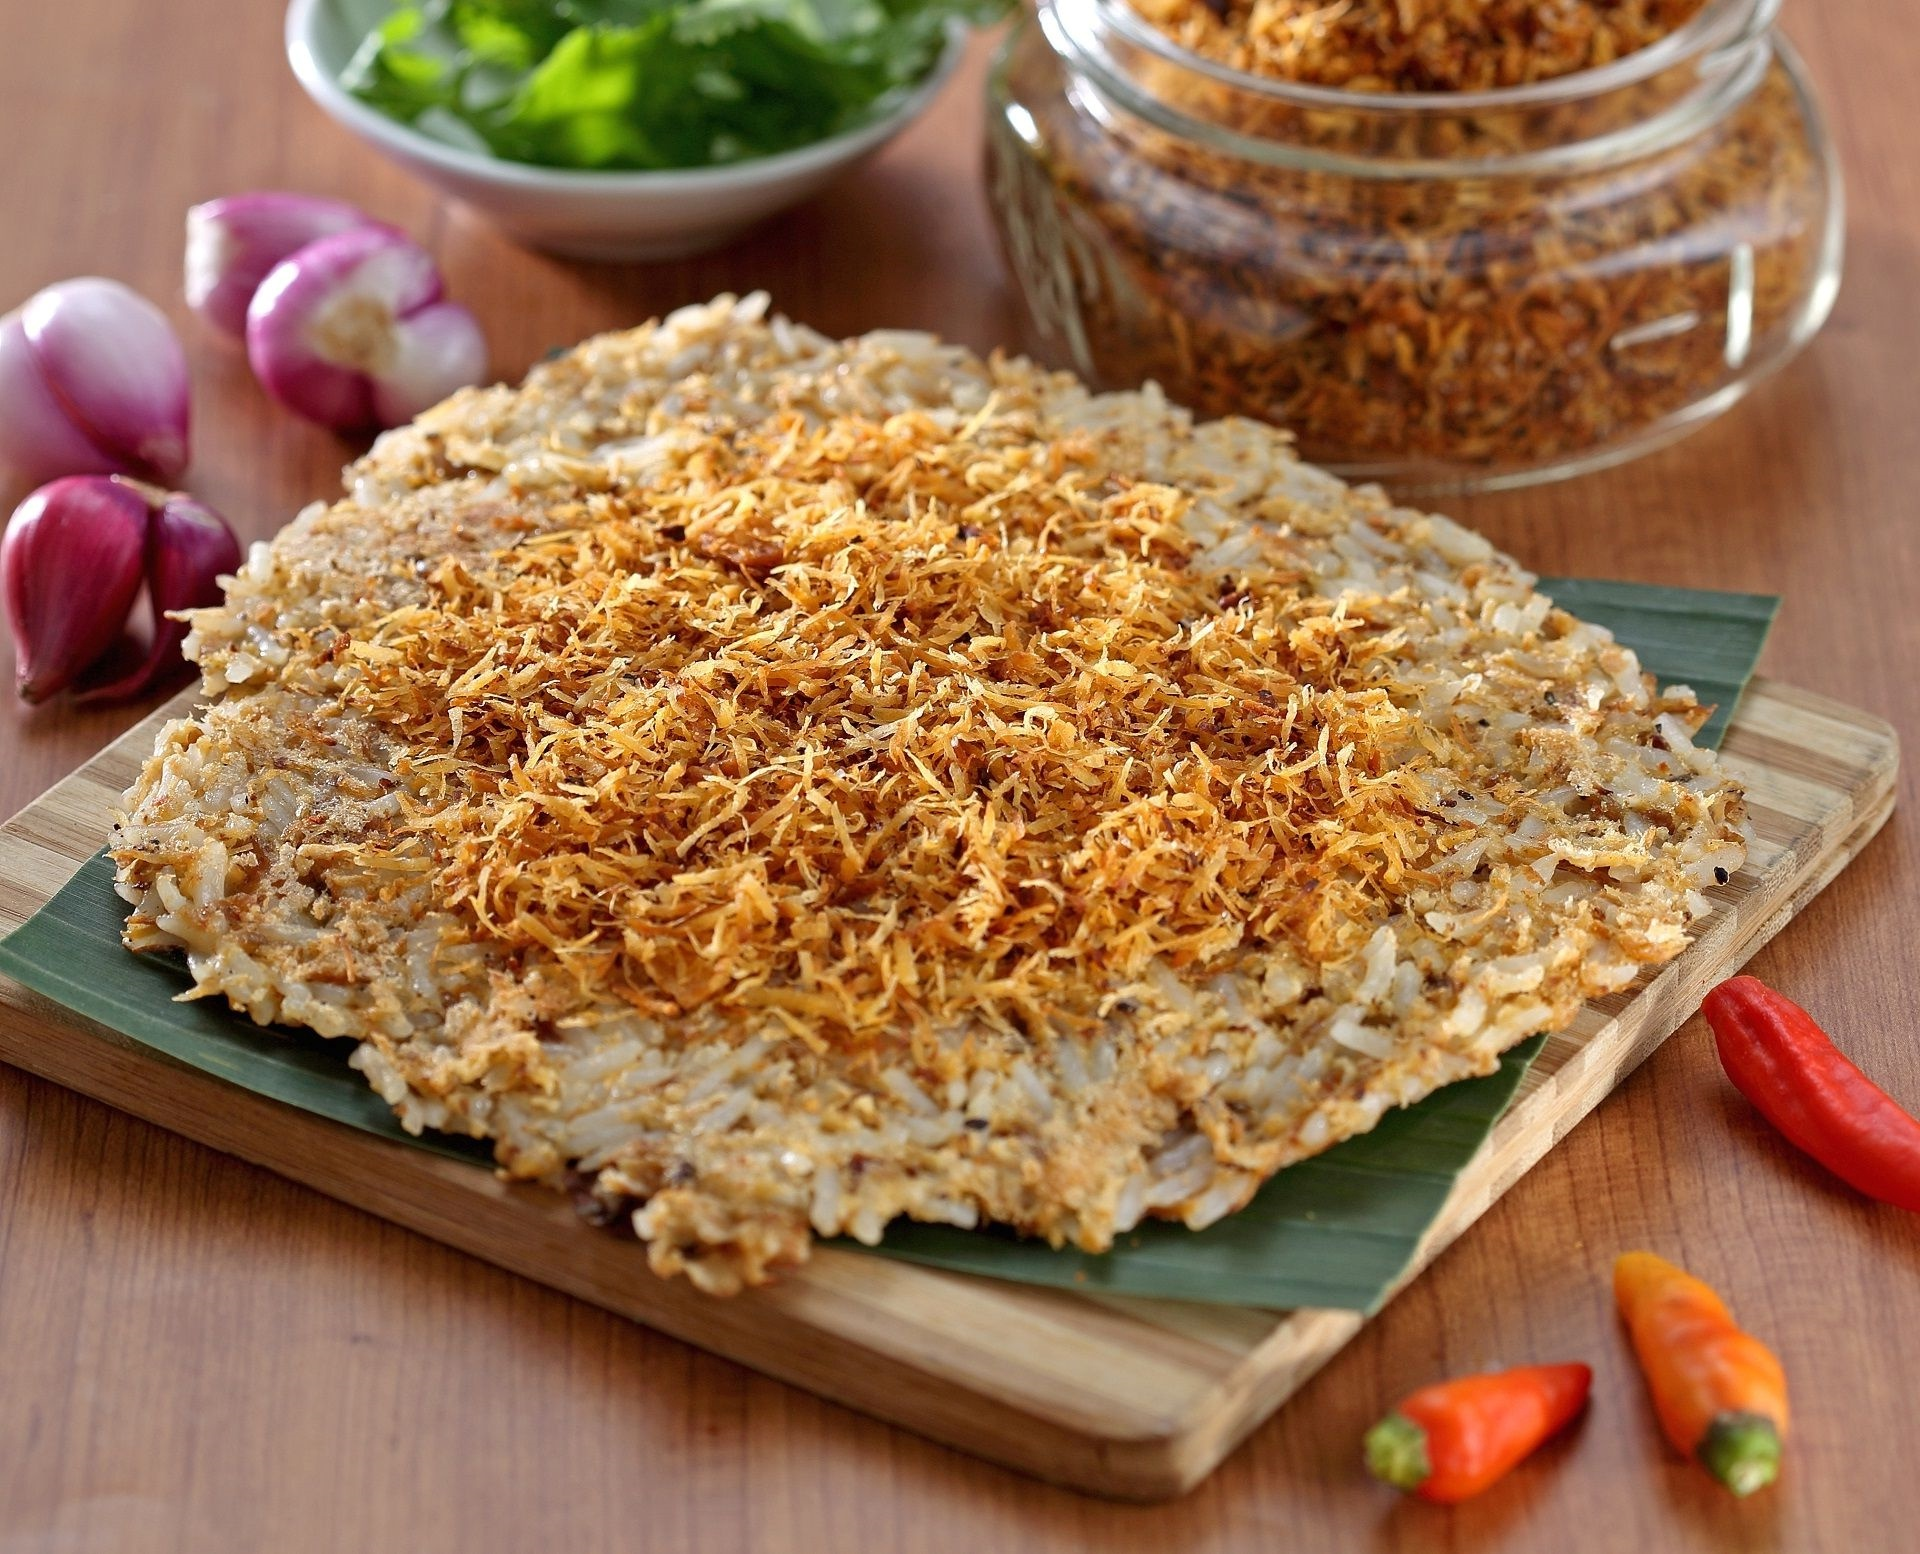kerak_telor: (146, 308, 1727, 1234)
